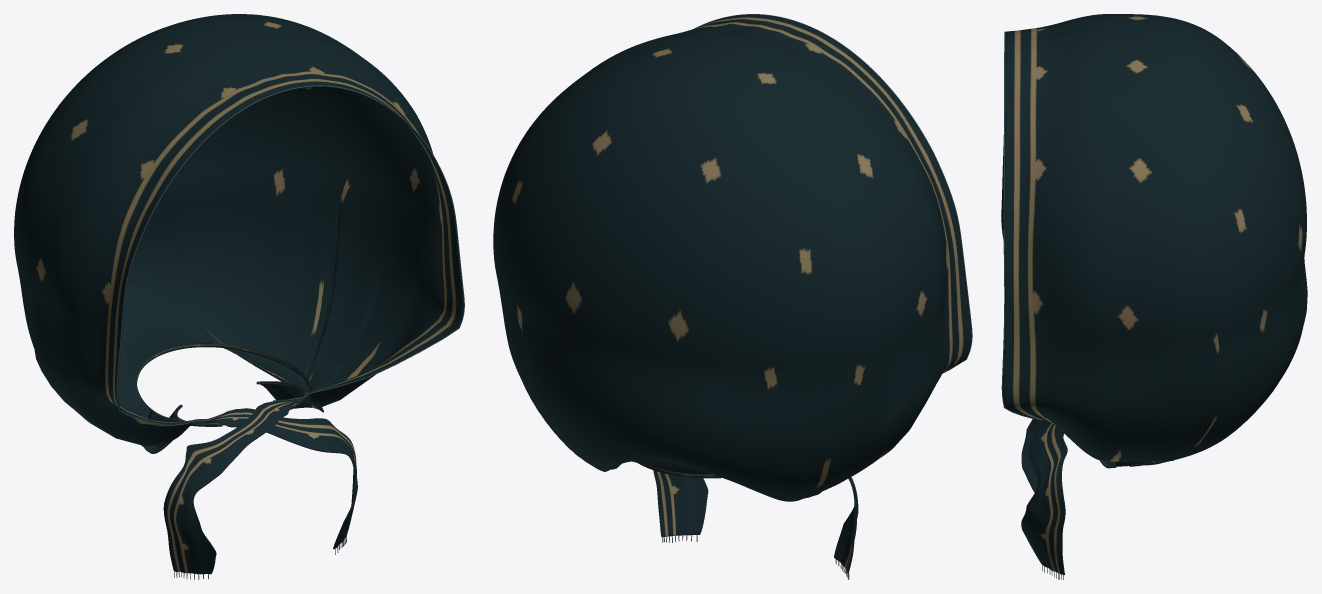
Rendered from Feminine-ponytail-triangle-pashmina250-headgear.glb.
The picture shows the model from 3 angles, left to right: view 1: azimuth 30°, elevation 25°; view 2: azimuth 150°, elevation 25°; view 3: azimuth 270°, elevation 25°; orthographic projection. The views are drawn at different scales.
Visible parts, largest first — view 1: 226 headgear / Headwear / continuous woven pashmina239, 226 headgear / Headwear / face edge239; view 2: 226 headgear / Headwear / continuous woven pashmina239, 226 headgear / Headwear / face edge239; view 3: 226 headgear / Headwear / continuous woven pashmina239, 226 headgear / Headwear / face edge239.
Part boxes in pixels (x1,y1,x2,y2): 226 headgear / Headwear / continuous woven pashmina239: (14,14,463,574); 226 headgear / Headwear / face edge239: (116,85,464,426); 226 headgear / Headwear / continuous woven pashmina239: (493,14,971,573); 226 headgear / Headwear / face edge239: (694,14,972,373); 226 headgear / Headwear / continuous woven pashmina239: (1001,14,1307,574); 226 headgear / Headwear / face edge239: (1001,31,1043,420).
Bounding box in the file's own units: 1.07 × 1.38 × 0.7569.
Materials: 3 (1 with a texture image).
